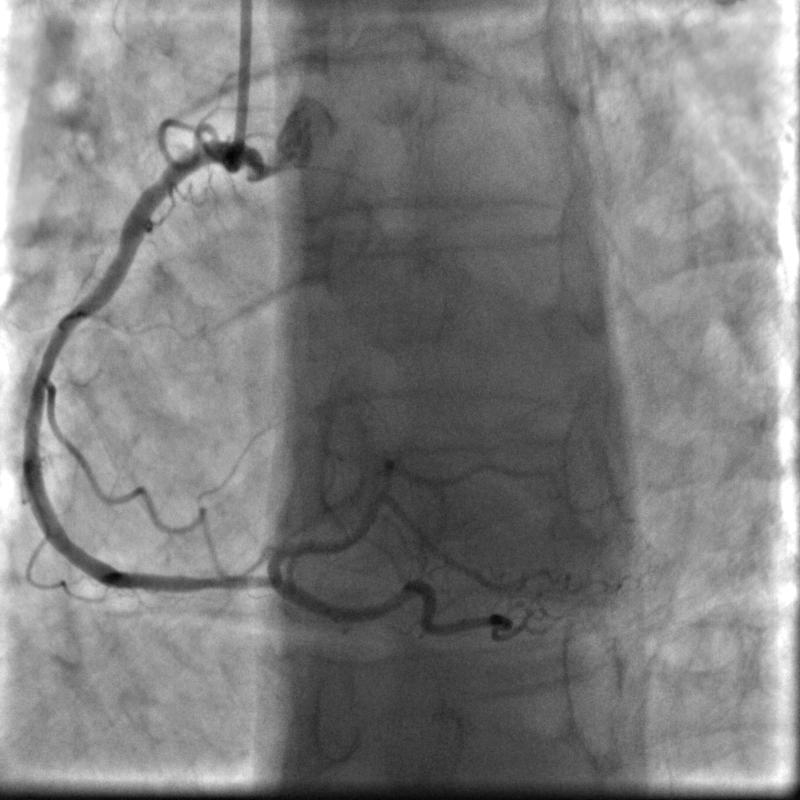Stenosis: (160, 565, 272, 605)
